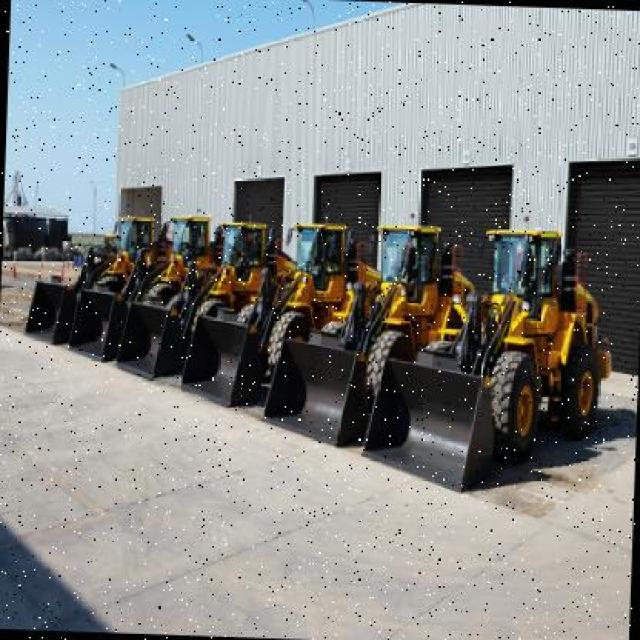buldozerpayloadergrader: (416, 214, 619, 492), (295, 208, 479, 470), (248, 208, 369, 402), (188, 198, 288, 382), (66, 190, 177, 352), (145, 192, 233, 338)
